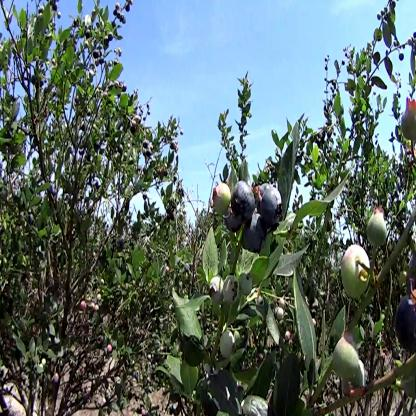mature: (395, 291, 415, 348), (259, 182, 279, 222), (231, 179, 253, 215), (241, 214, 263, 247), (227, 214, 242, 230)
young: (330, 326, 365, 384), (337, 243, 374, 296), (362, 206, 385, 244), (211, 180, 233, 213), (222, 328, 237, 368), (221, 272, 238, 299), (208, 275, 222, 301), (241, 273, 253, 297)
